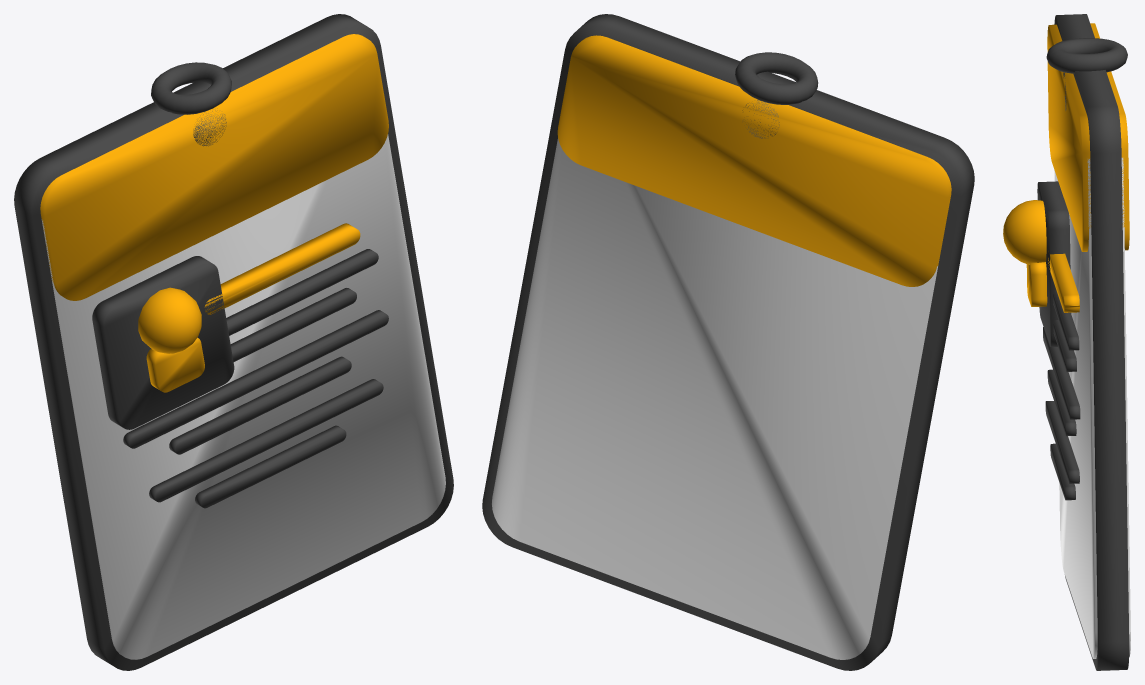
File: id_badge.glb
The picture shows the model from 3 angles, left to right: view 1: azimuth 30°, elevation 25°; view 2: azimuth 150°, elevation 25°; view 3: azimuth 270°, elevation 25°; orthographic projection. The views are drawn at different scales.
Visible parts, largest first — view 1: BadgeCard, BadgeHeader, BadgeBorder, BadgePhoto, BadgeLine_2, BadgeLine_4, BadgeName, BadgeLine_3, BadgePhHead, BadgeClip, BadgeLine_0, BadgeLine_5 (+2 smaller); view 2: BadgeCard, BadgeHeader, BadgeBorder, BadgeClip; view 3: BadgeBorder, BadgeCard, BadgeHeader, BadgePhoto, BadgeClip, BadgePhHead, BadgeName, BadgeLine_4, BadgeLine_2, BadgePhBody, BadgeLine_0, BadgeLine_3 (+2 smaller).
Boxes of the visible parts, left/top/right/bottom form: BadgeCard: left=41, top=134, right=445, bottom=659; BadgeHeader: left=40, top=34, right=388, bottom=300; BadgeBorder: left=14, top=14, right=453, bottom=670; BadgePhoto: left=92, top=256, right=234, bottom=429; BadgeLine_2: left=123, top=310, right=388, bottom=448; BadgeLine_4: left=149, top=379, right=383, bottom=502; BadgeName: left=204, top=223, right=360, bottom=314; BadgeLine_3: left=169, top=356, right=351, bottom=454; BadgePhHead: left=138, top=287, right=201, bottom=353; BadgeClip: left=151, top=62, right=231, bottom=114; BadgeLine_0: left=226, top=249, right=378, bottom=335; BadgeLine_5: left=195, top=425, right=346, bottom=508; BadgeCard: left=492, top=138, right=937, bottom=659; BadgeHeader: left=557, top=35, right=951, bottom=286; BadgeBorder: left=482, top=14, right=974, bottom=670; BadgeClip: left=735, top=52, right=818, bottom=104; BadgeBorder: left=1054, top=14, right=1129, bottom=670; BadgeCard: left=1054, top=157, right=1130, bottom=658; BadgeHeader: left=1047, top=23, right=1129, bottom=251; BadgePhoto: left=1037, top=181, right=1071, bottom=346; BadgeClip: left=1046, top=38, right=1127, bottom=73; BadgePhHead: left=1003, top=200, right=1046, bottom=264; BadgeName: left=1048, top=251, right=1079, bottom=312; BadgeLine_4: left=1045, top=401, right=1079, bottom=483; BadgeLine_2: left=1043, top=327, right=1080, bottom=419; BadgePhBody: left=1026, top=262, right=1047, bottom=306; BadgeLine_0: left=1053, top=290, right=1079, bottom=350; BadgeLine_3: left=1047, top=369, right=1076, bottom=436.
Bounding box in the file's own units: 2.01 × 2.49 × 0.4998.
